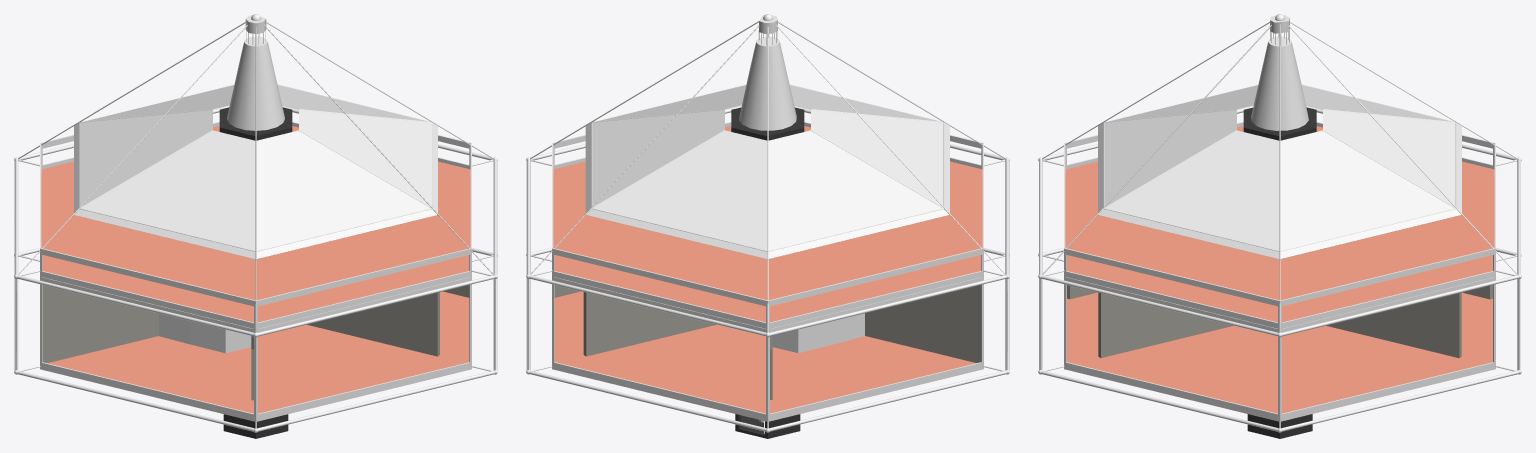
Rendered from house 10.18.fbx.
3 renders of one model, left to right at view 1: azimuth 30°, elevation 25°; view 2: azimuth 150°, elevation 25°; view 3: azimuth 270°, elevation 25°, orthographic.
Visible parts, largest first — view 1: 顶棚, 楼板, railing, 墙面, 水平, 拉索, 中心交通筒, 竖杆, bath; view 2: 顶棚, 楼板, railing, 墙面, 水平, 拉索, bath, 中心交通筒, 竖杆; view 3: 楼板, 顶棚, railing, 墙面, 水平, 拉索, 中心交通筒, 竖杆.
Part boxes in pixels (x1,y1,x2,y2): 顶棚: [74, 14, 437, 258]; 楼板: [41, 126, 470, 413]; railing: [40, 121, 471, 421]; 墙面: [42, 285, 469, 400]; 水平: [14, 106, 497, 432]; 拉索: [18, 22, 493, 332]; 中心交通筒: [219, 107, 292, 438]; 竖杆: [16, 149, 495, 428]; bath: [159, 313, 189, 344]; 顶棚: [585, 14, 949, 258]; 楼板: [553, 126, 982, 413]; railing: [552, 121, 983, 421]; 墙面: [554, 285, 981, 399]; 水平: [526, 106, 1009, 432]; 拉索: [530, 21, 1005, 332]; bath: [772, 313, 864, 353]; 中心交通筒: [731, 107, 804, 438]; 竖杆: [528, 149, 1007, 428]; 楼板: [1065, 126, 1494, 413]; 顶棚: [1098, 14, 1461, 258]; railing: [1064, 122, 1495, 421]; 墙面: [1067, 285, 1492, 358]; 水平: [1038, 106, 1521, 432]; 拉索: [1042, 22, 1517, 332]; 中心交通筒: [1243, 107, 1316, 438]; 竖杆: [1040, 149, 1519, 428].
Bounding box in the file's own units: 18.01 × 15.62 × 14.56.
